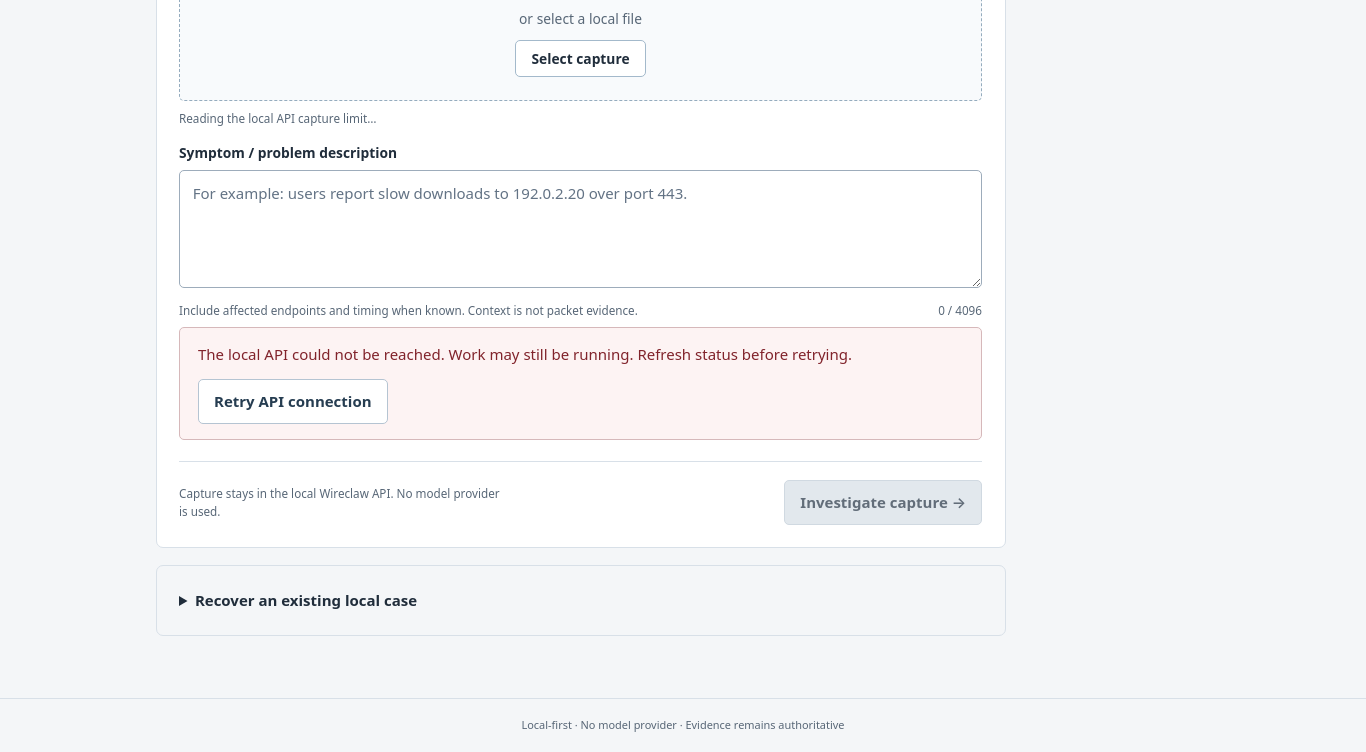
Test: primary intake and recovery workflow › reports API initialization failure and supports retry
The image size is (1366, 752).
(page scrolled)
Expected: the message shows "could not be reached", [198,344,852,364]
Click the button "Retry API connection" at (293, 401), box [198,379,388,424]
(page scrolled)
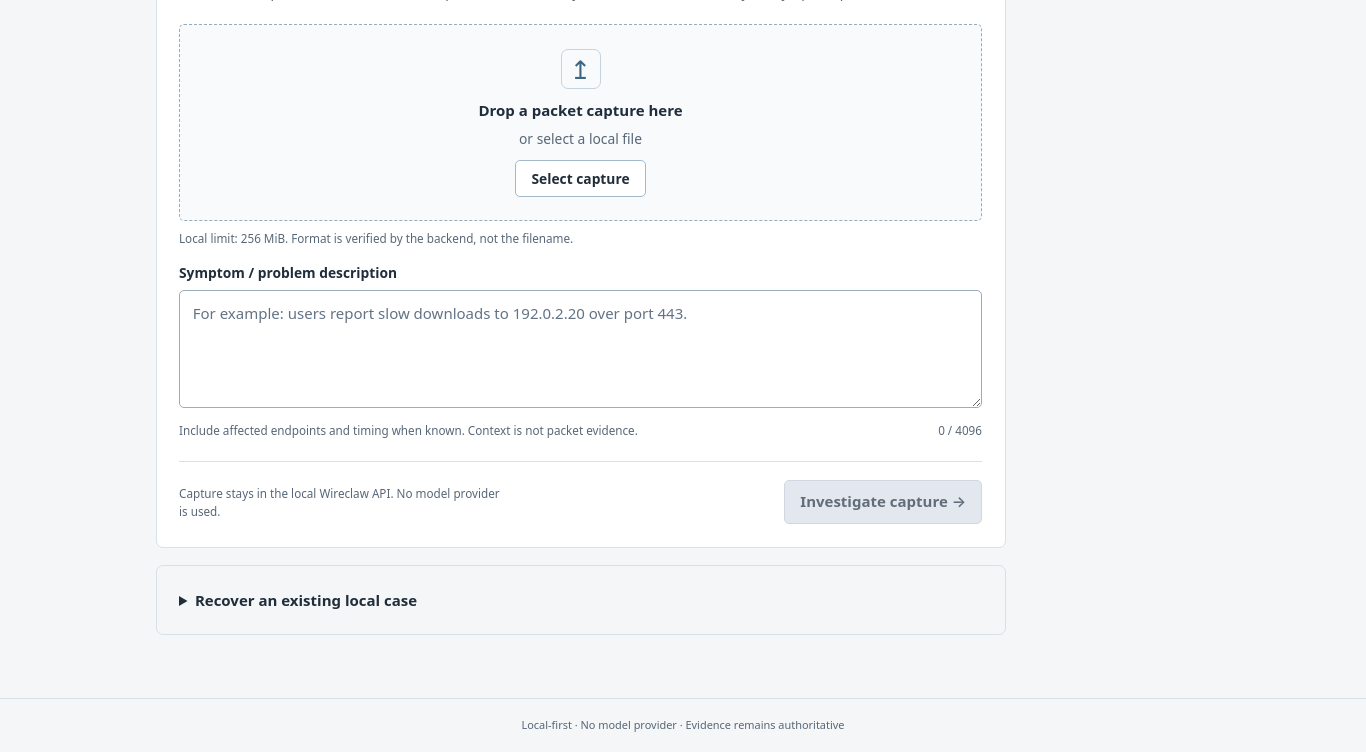
Expected: the message is gone
